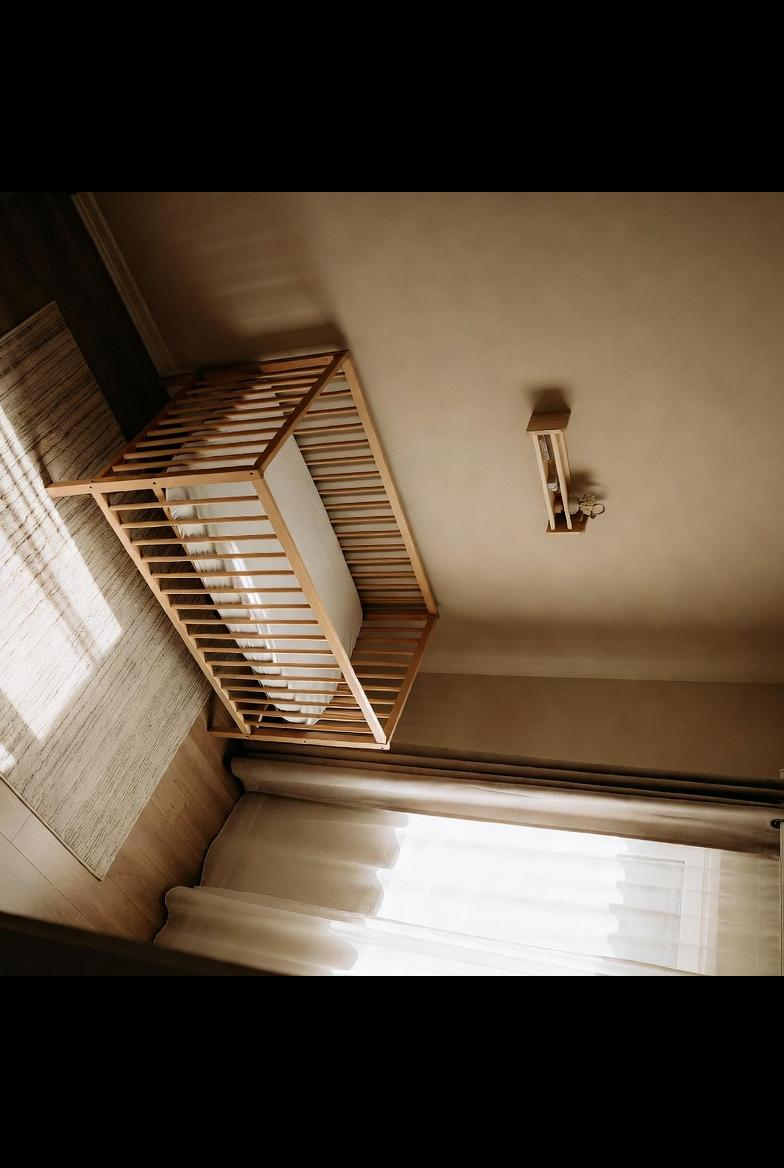crib: (47, 351, 437, 748)
